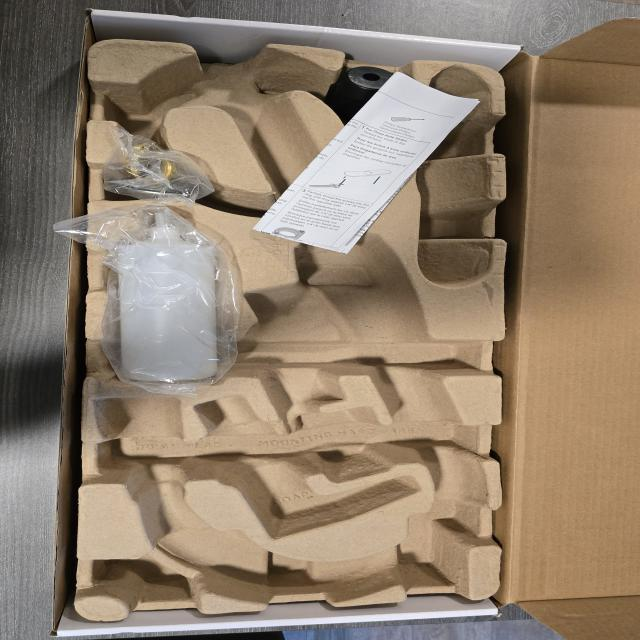1m: (102, 45, 485, 601)
2m: (194, 396, 417, 538)
3: (111, 210, 220, 384)
4m: (413, 63, 495, 289)
5o: (330, 65, 403, 120)
6: (103, 126, 219, 199)
7m: (104, 70, 205, 132)
8: (251, 70, 485, 254)
